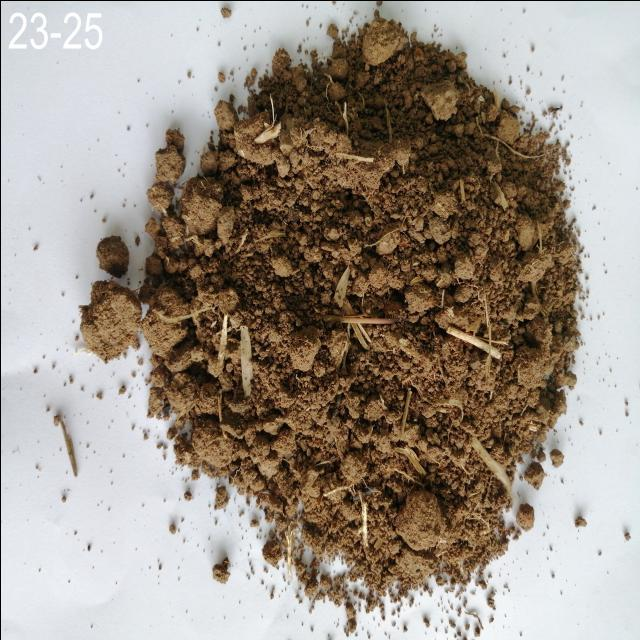soil: (224, 137, 512, 480)
